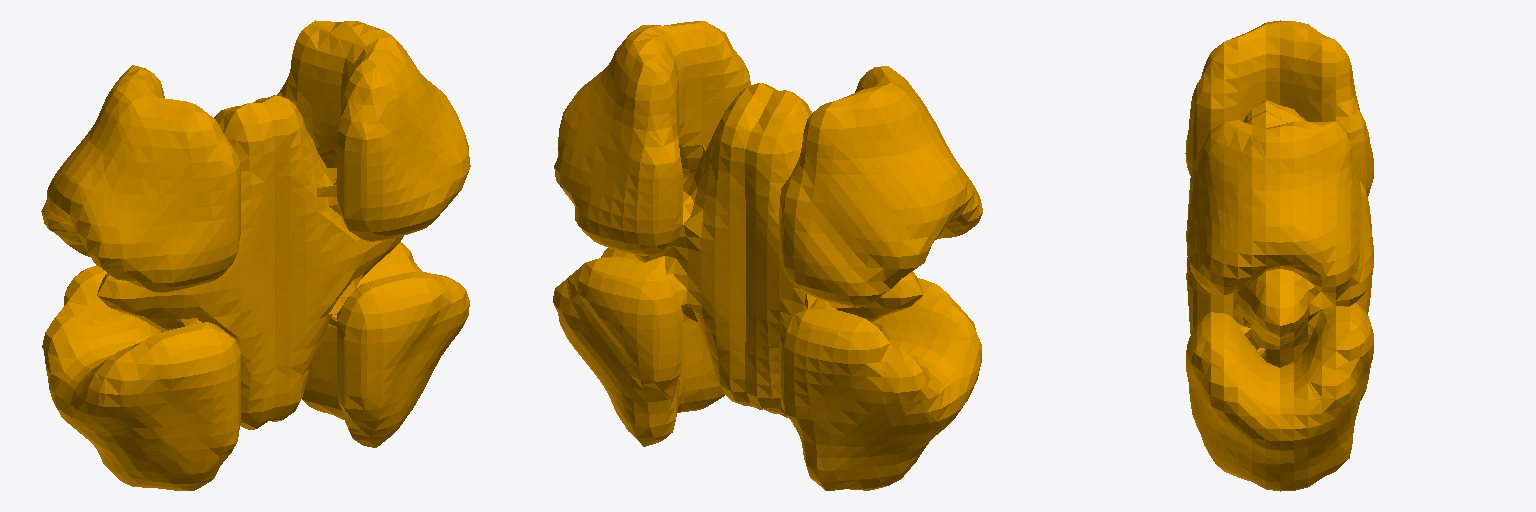
URDF robot description (U18_1):
<?xml version="1.0"?>
<robot name="U18_1">
  <link name="base_link">
    <visual>
      <geometry>
        <mesh filename="../../../../meshes/egad/train/U18_1.obj" />
      </geometry>
    </visual>
  </link>
</robot>

--- What the picture shows (computed from the rendered views, not written in the file) ---
Views: 3 orthographic renders of the robot side by side, from view 1: azimuth 30°, elevation 25°; view 2: azimuth 150°, elevation 25°; view 3: azimuth 270°, elevation 25°.
Robot: U18_1 — 1 links, 0 joints (none); root link base_link; default pose: every joint at zero.
Visible links, largest first — view 1: base_link; view 2: base_link; view 3: base_link.
Boxes of the visible links, <box> form: base_link: <box>41,20,470,490</box>; base_link: <box>553,21,982,490</box>; base_link: <box>1185,20,1373,491</box>.
Bounding box of the posed robot: 0.075 × 0.0348 × 0.0742 m (x, y, z).
Meshes: 1 distinct files referenced, 1 mesh visuals loaded (1 OBJ).